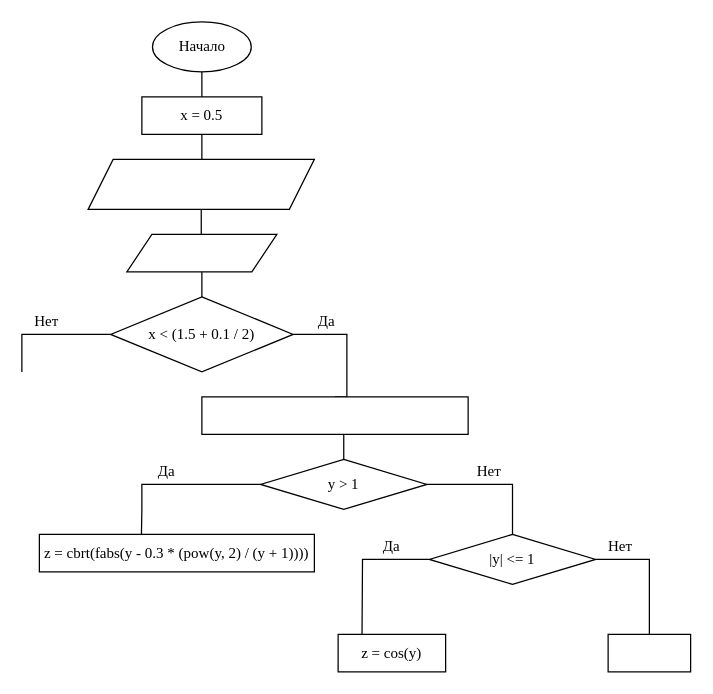
Image size: 713x694. Some labels were removed from this diagram. The shapes that lost their labels are listed below. From the top down, each one's box as (x1, y1, x2, y2) in pixels, then its label:
(87, 158, 314, 209): "Результаты вычислений: "
(126, 233, 277, 272): "x y z"
(201, 396, 468, 434): y = cbrt(x) - 0.2 * x + (pow(x, 2) / (x + 1))
(607, 633, 691, 672): z = 0
